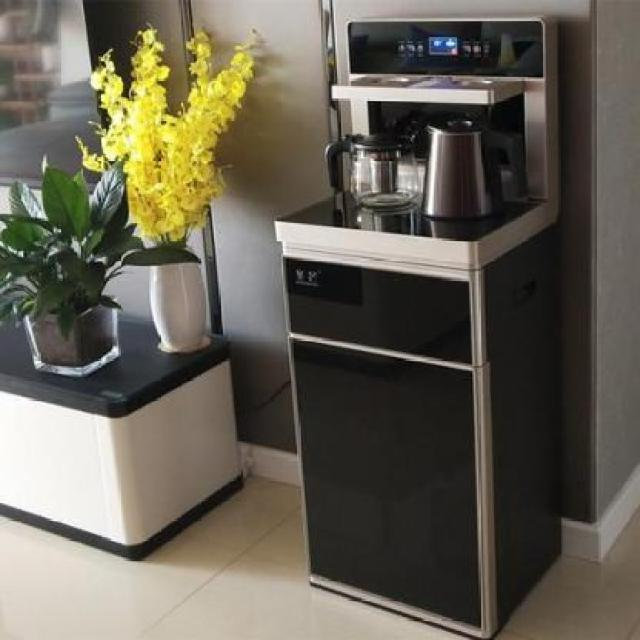cooler: (274, 0, 568, 640)
